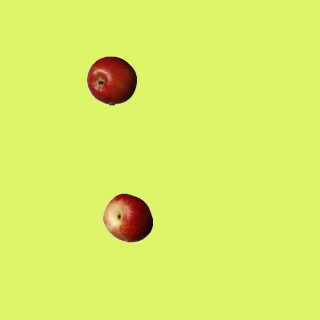Apple Braeburn: (86, 55, 136, 105)
Nectarine: (102, 192, 152, 242)
